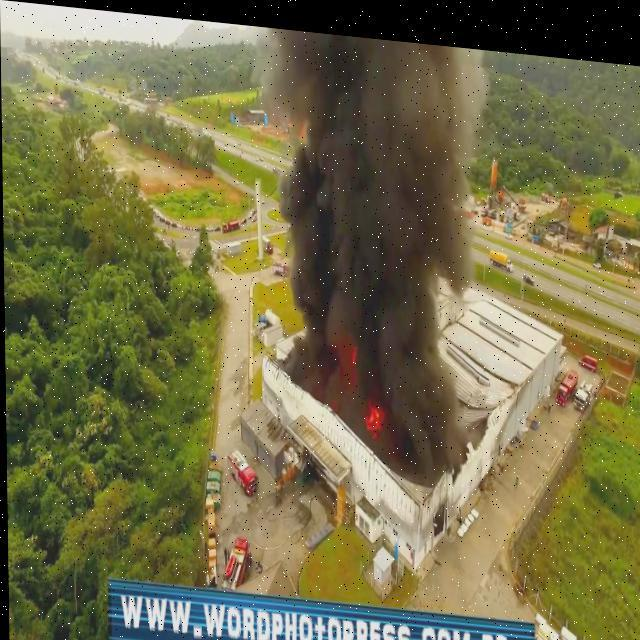Fire: (362, 390, 387, 432)
